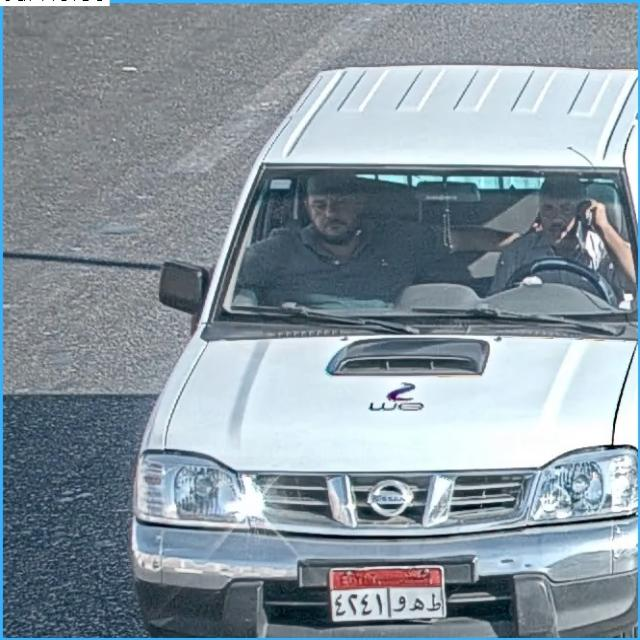windshield: (217, 165, 633, 314)
